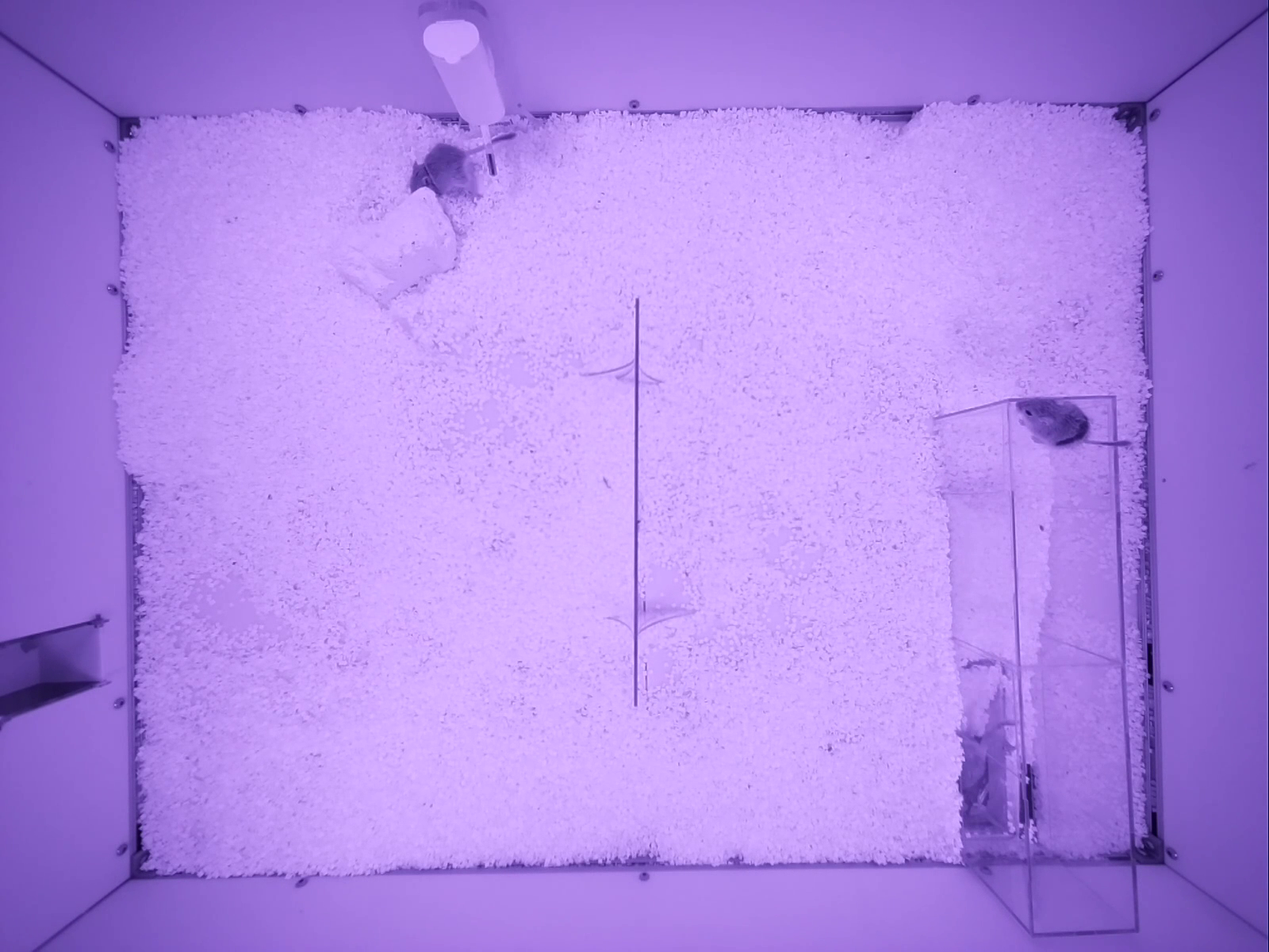adult_back: (410, 132, 515, 195), (1015, 398, 1129, 446)
